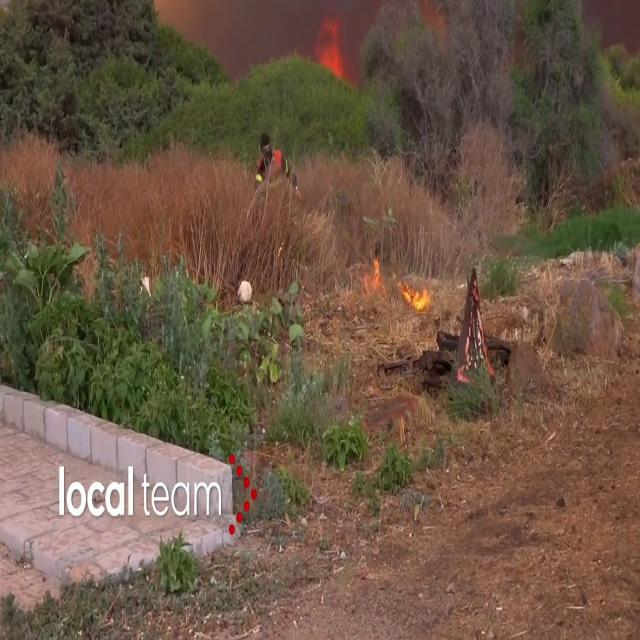Fire: (314, 5, 347, 86), (401, 275, 434, 318)
